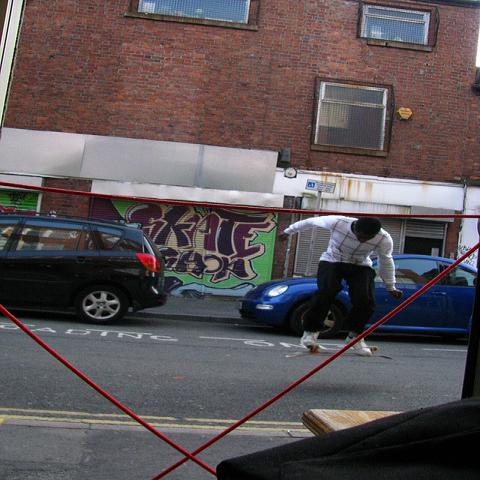car: (0, 214, 170, 330), (236, 254, 475, 336)
